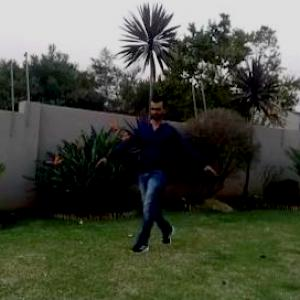land: (106, 98, 212, 233)
